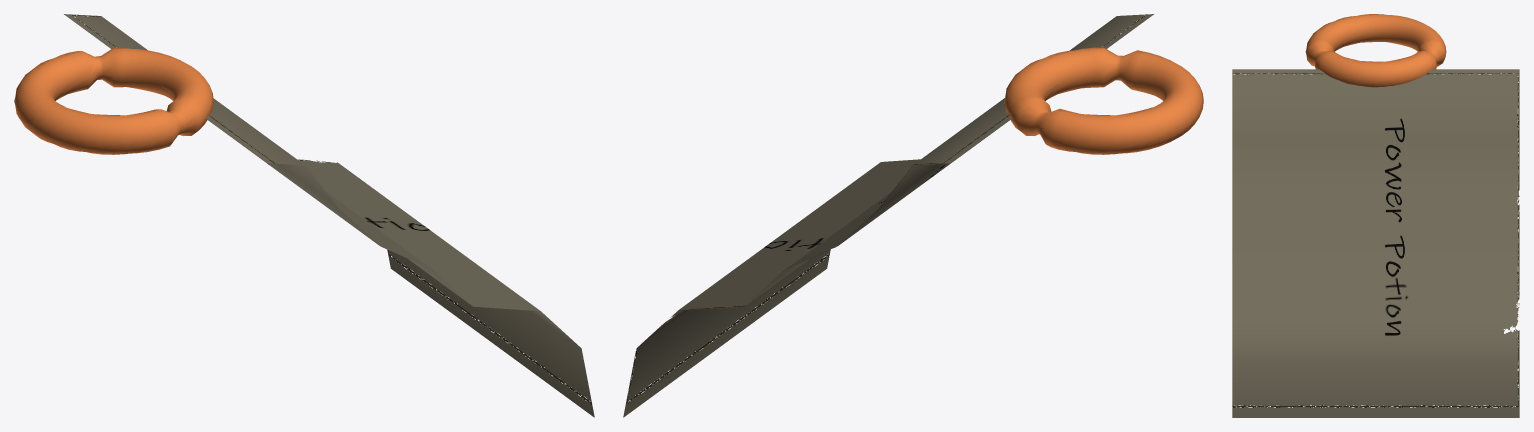
The model's file is ObjBilheteNovo.fbx.
3 renders of one model, left to right at view 1: azimuth 30°, elevation 25°; view 2: azimuth 150°, elevation 25°; view 3: azimuth 270°, elevation 25°, orthographic. The views are drawn at different scales.
Visible parts, largest first — view 1: Plano; view 2: Plano; view 3: Plano.
Boxes of the visible parts, x1,y1,x2,y2 form: Plano: (14, 14, 594, 417); Plano: (623, 14, 1203, 417); Plano: (1232, 14, 1519, 417).
Size of the model in its own units: 180 by 130 by 137.
2 materials, 1 textured.
